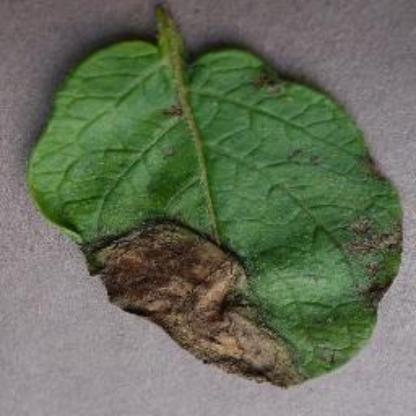Late-Blight: (27, 6, 405, 388)
